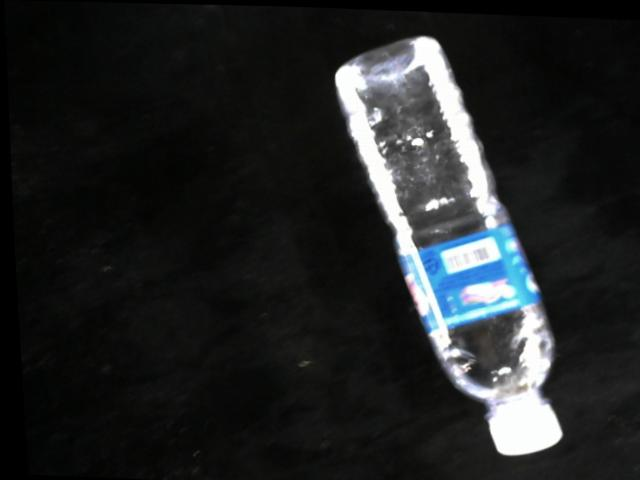bottle: (332, 31, 563, 458)
